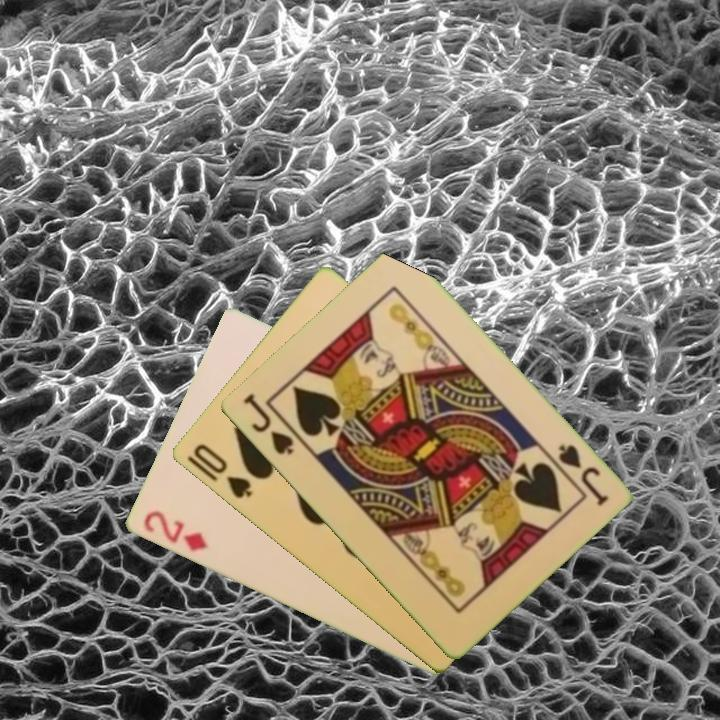10s: (189, 440, 255, 502)
2d: (139, 507, 211, 555)
Js: (239, 389, 296, 458), (554, 440, 611, 509)
